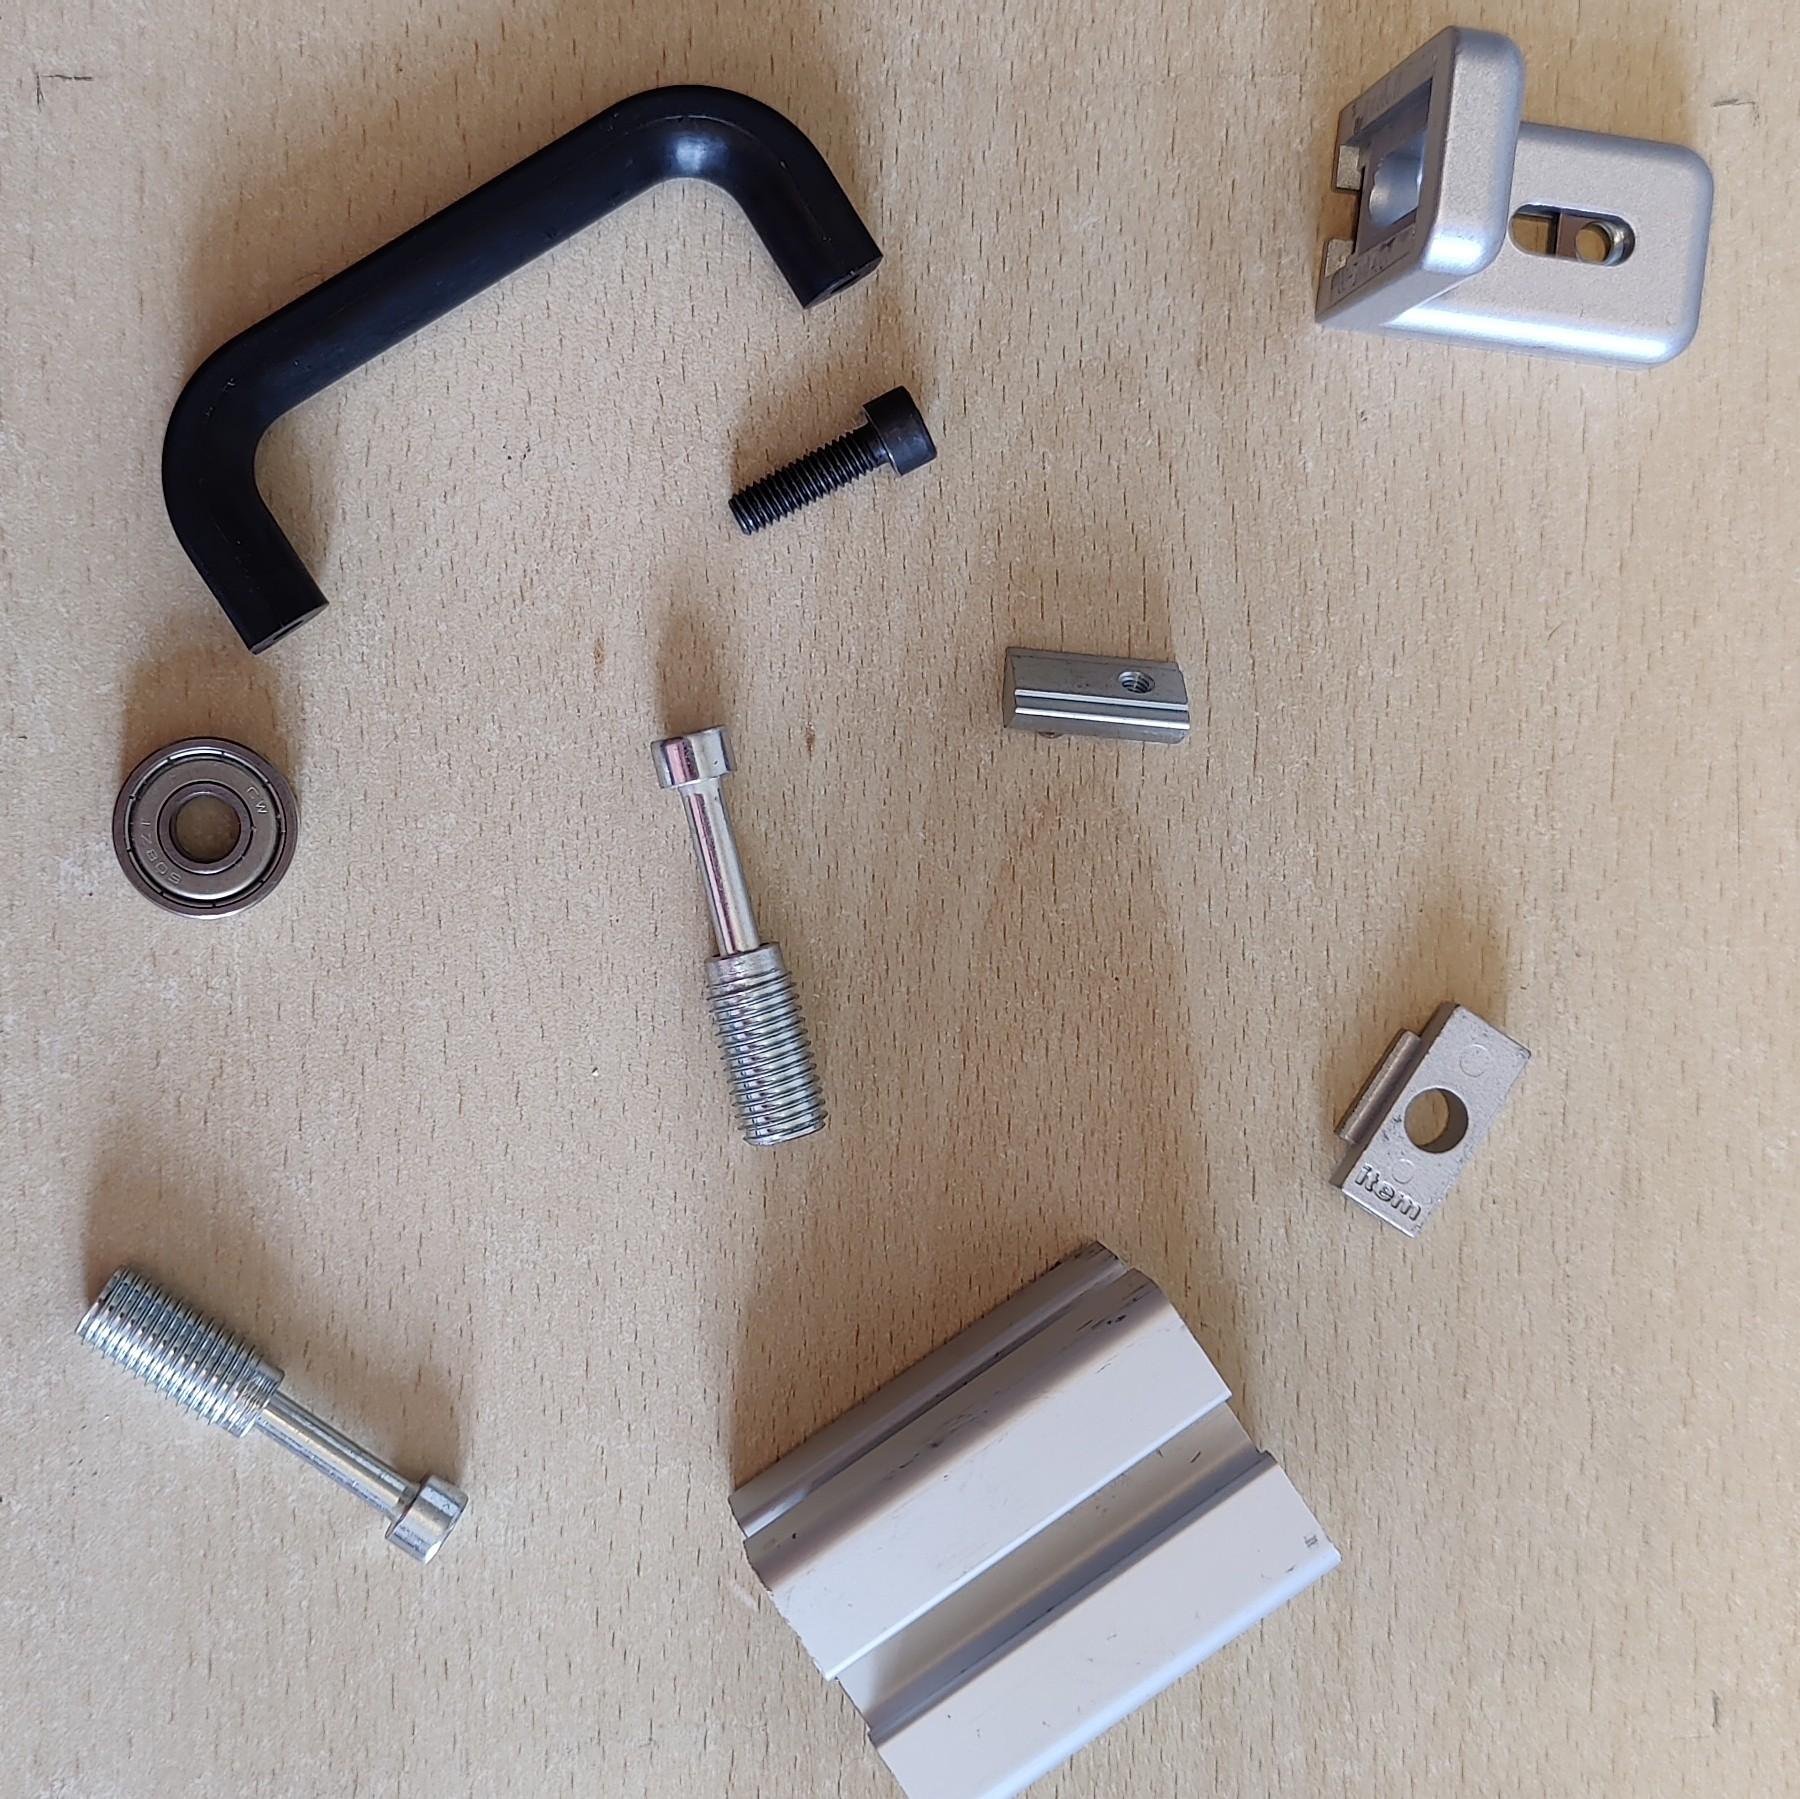Aluminium Extension: (725, 1234, 1347, 1799)
Ball Bearing: (109, 735, 301, 923)
Multiwinkel: (1311, 23, 1719, 371)
Pull Handle: (160, 79, 886, 657)
Shoulder Socket Head Cap Screw: (74, 1260, 469, 1568), (647, 715, 832, 1148)
Socket Head Cap Screw: (728, 381, 940, 535)
T Nut Square: (1329, 992, 1537, 1242)
T Spring Nut: (998, 634, 1192, 746)
